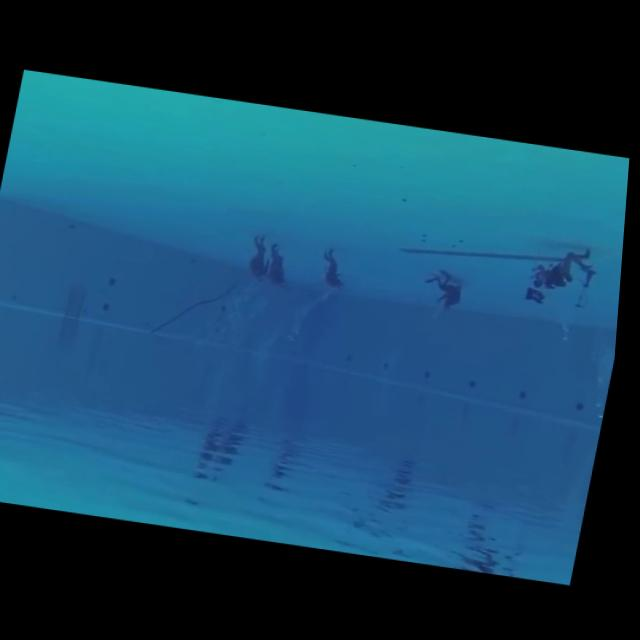human: (522, 236, 606, 316), (419, 257, 474, 324), (314, 236, 360, 300), (240, 221, 282, 288), (263, 232, 303, 296)
